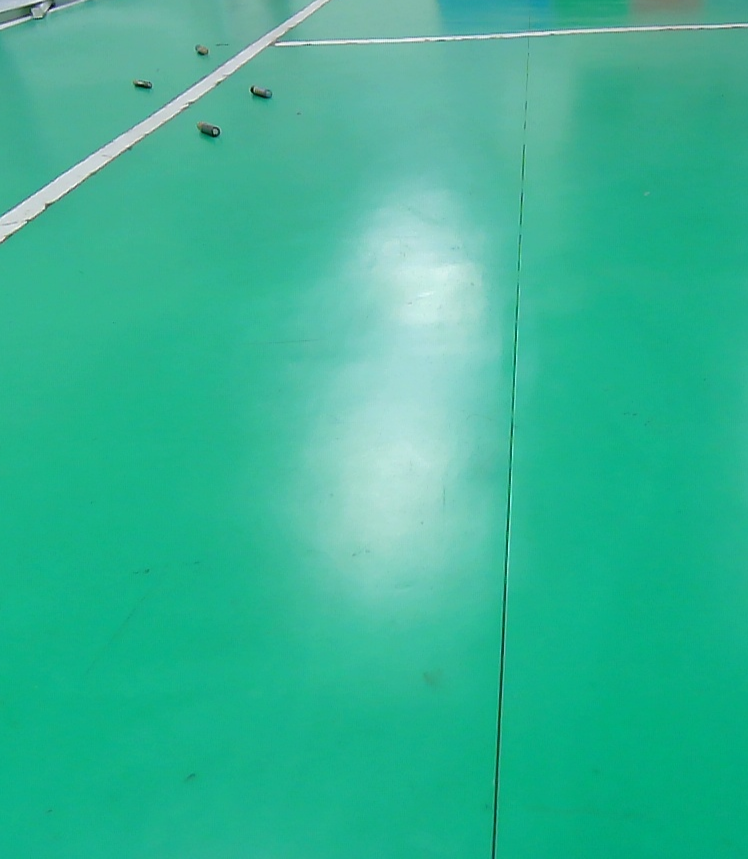battery: (235, 70, 289, 114), (115, 67, 169, 102), (179, 31, 222, 71), (188, 113, 228, 151)
